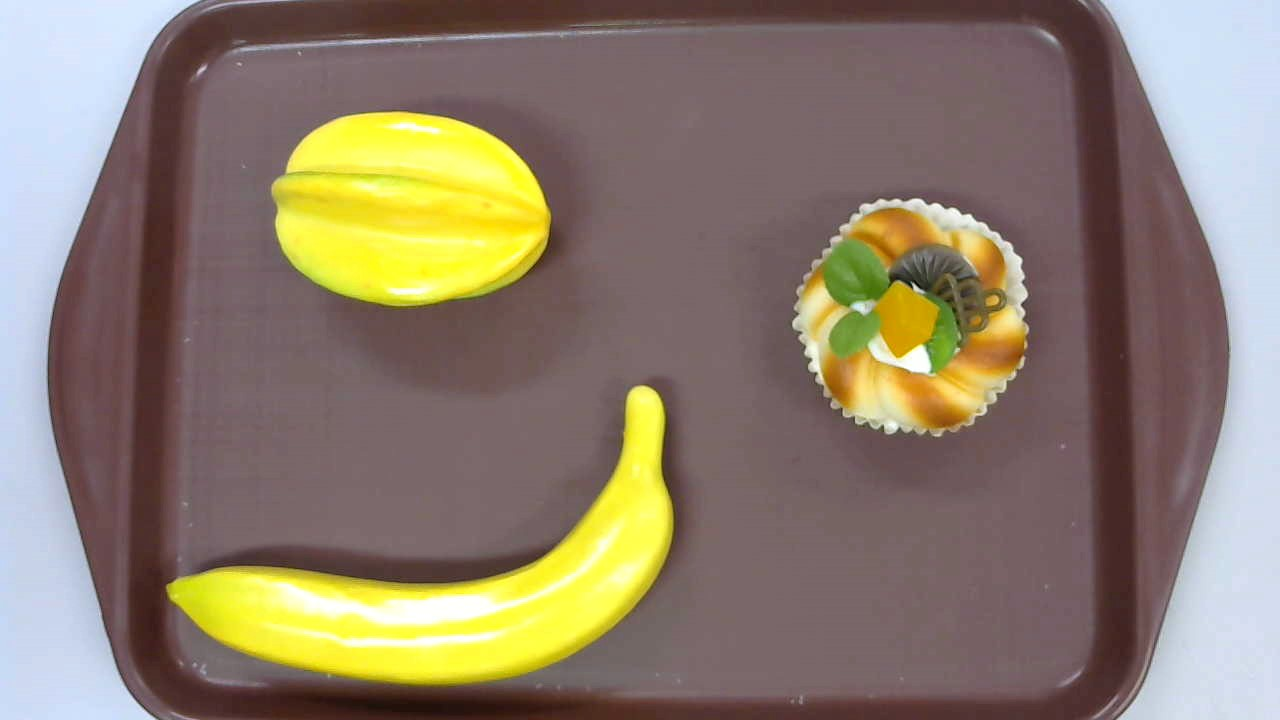banana: (165, 386, 675, 687)
fruit tart: (792, 197, 1031, 439)
star fruit: (269, 112, 553, 310)
